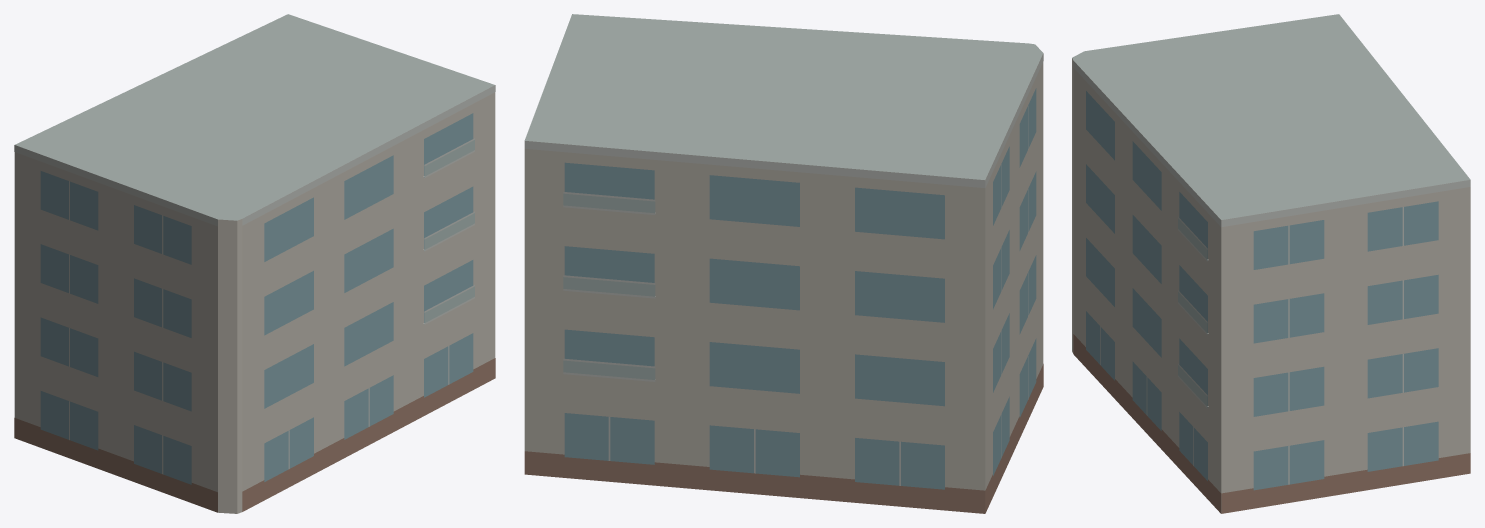
Rendered from survey-upis-32585128.glb.
3 renders of one model, left to right at view 1: azimuth 30°, elevation 25°; view 2: azimuth 150°, elevation 25°; view 3: azimuth 270°, elevation 25°, orthographic. The views are drawn at different scales.
Visible parts, largest first — view 1: survey-upis-32585128.tmp; view 2: survey-upis-32585128.tmp; view 3: survey-upis-32585128.tmp.
Part boxes in pixels (left/top/right/bottom): survey-upis-32585128.tmp: left=14, top=14, right=495, bottom=513; survey-upis-32585128.tmp: left=524, top=14, right=1043, bottom=513; survey-upis-32585128.tmp: left=1072, top=14, right=1470, bottom=513.
Bounding box in the file's own units: 15.29 × 10.15 × 12.49.
